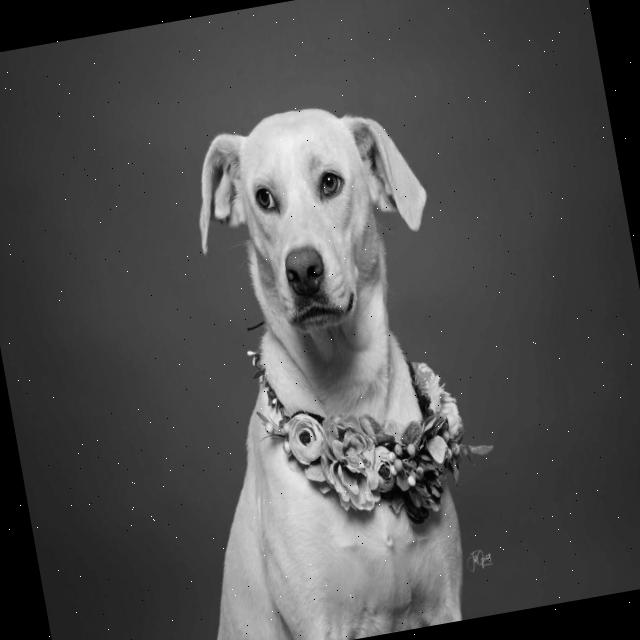labrador_retriever_dog: (164, 74, 464, 406)
